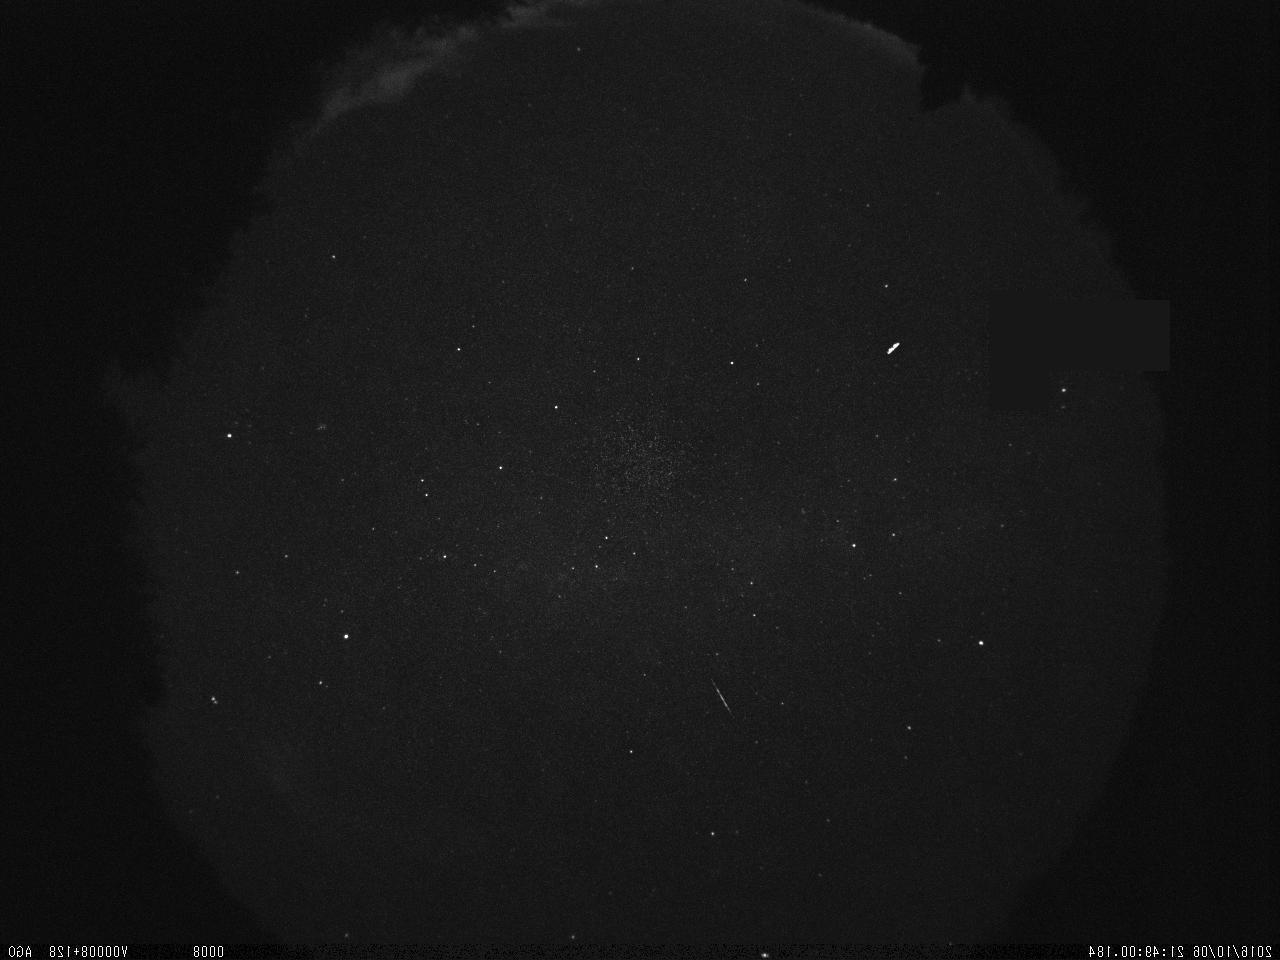meteor: (708, 664, 744, 732)
satelite: (882, 334, 909, 361)
